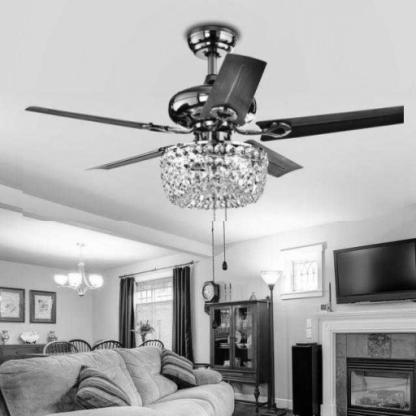ceiling-fan: (23, 15, 404, 222)
